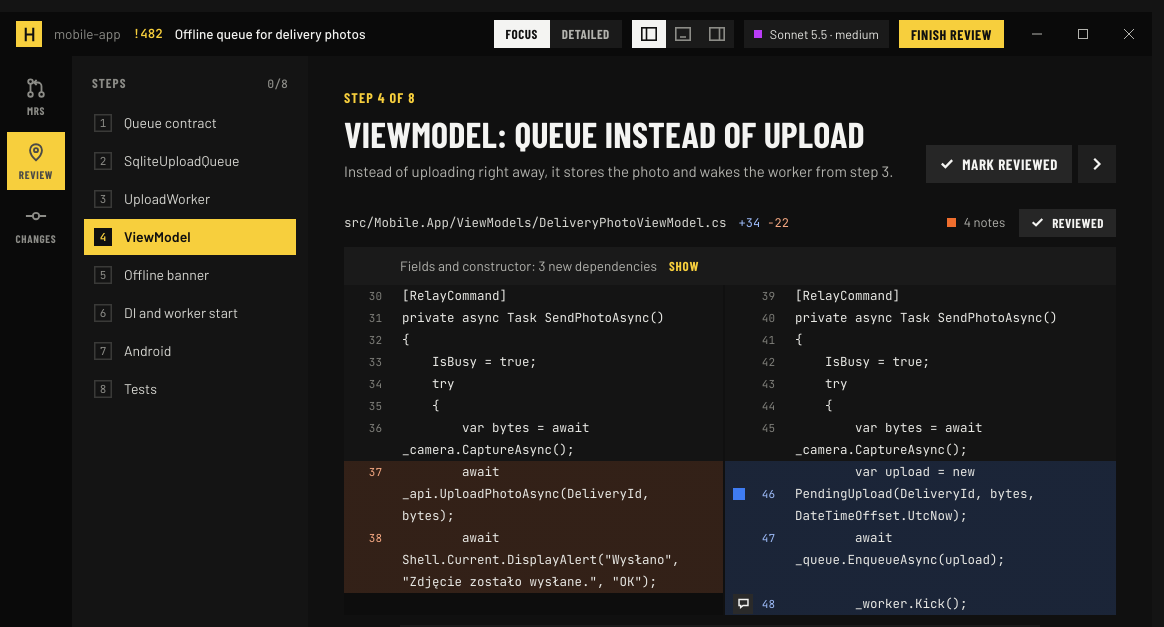
Test: S-03 selected lines (F-10.1) › F-10.1 a click on a line number selects that line under a "Selected lines" group; another click moves it
This screenshot has width=1164, height=627.
Expected: the text "Step 4 of 8" is shown, [344, 89, 416, 106]
Click the text "47". click: (768, 538)
box: [762, 531, 775, 545]
(page scrolled)
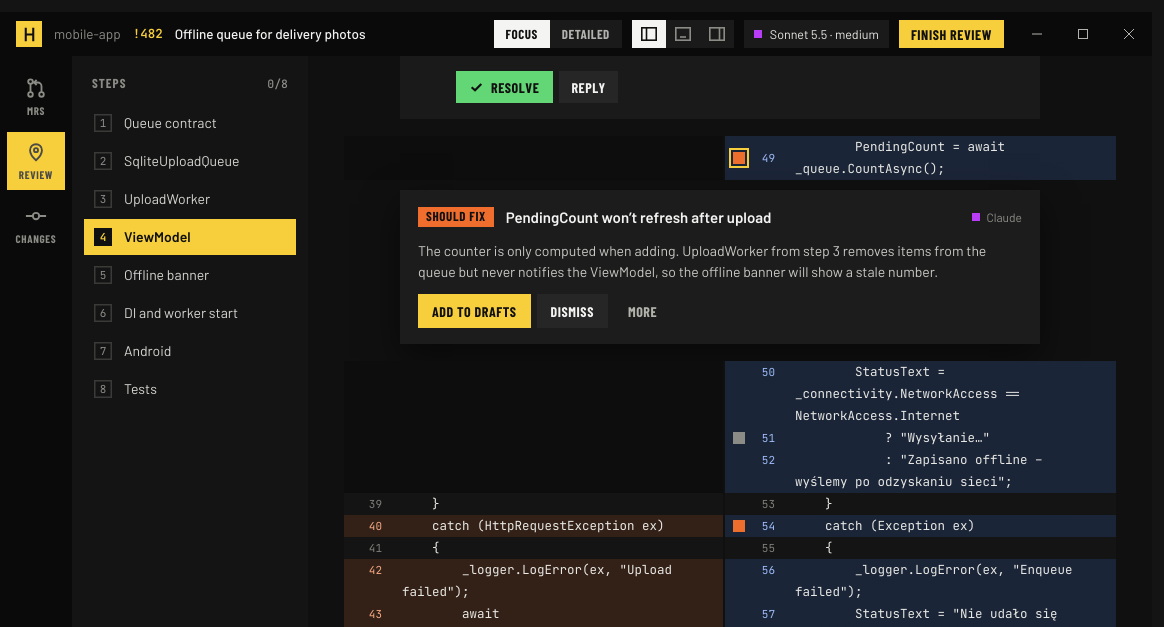
Click the text "50". click: (768, 372)
box: [762, 365, 775, 379]
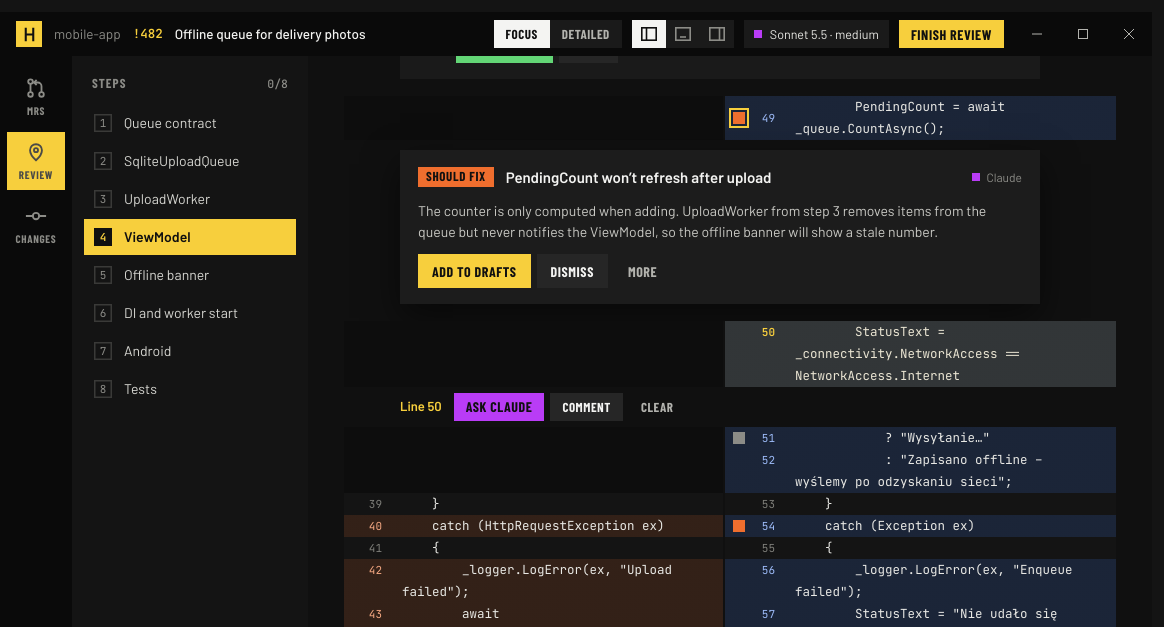
Result: the text "Line 50" is shown at [400, 397, 442, 416]
